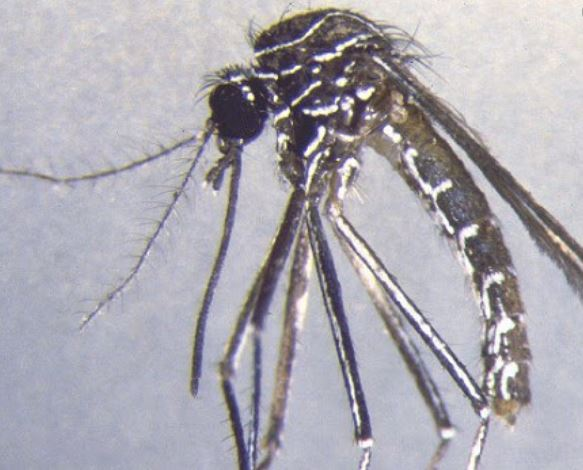dengue_mosquito: (8, 9, 579, 458)
